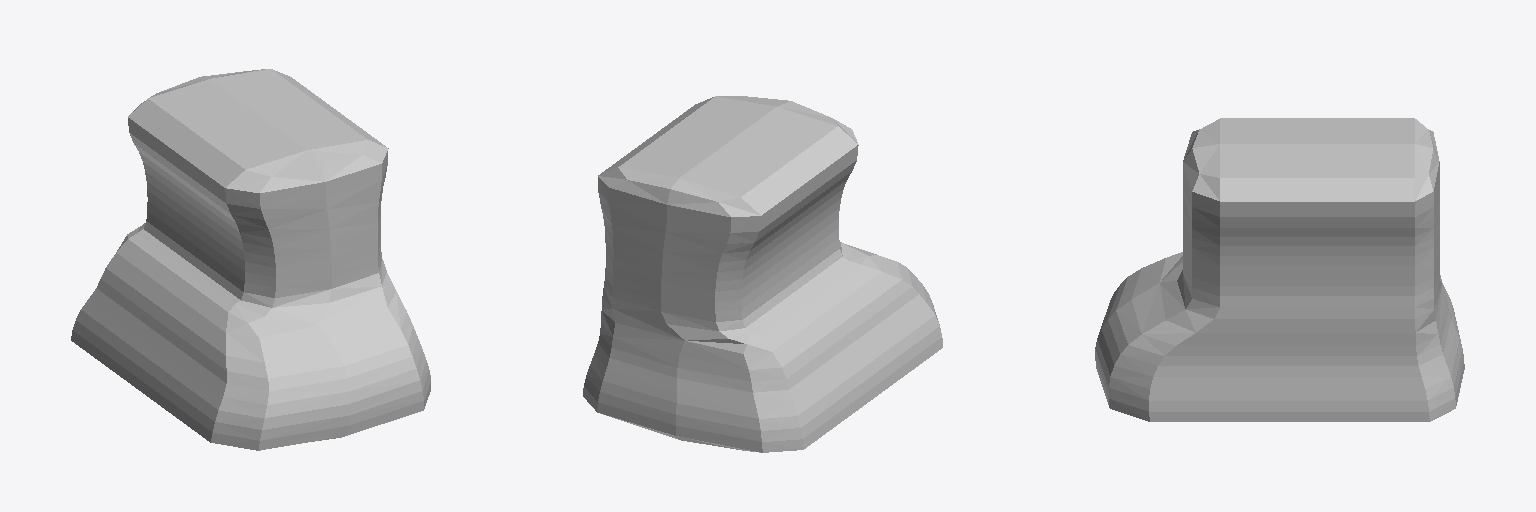
Rendered from R_leg.obj.
3 views of the same model, side by side, from view 1: azimuth 30°, elevation 25°; view 2: azimuth 150°, elevation 25°; view 3: azimuth 270°, elevation 25° (orthographic).
Parts seen in each view (by area): view 1: polySurface2 minion_all:Mesh; view 2: polySurface2 minion_all:Mesh; view 3: polySurface2 minion_all:Mesh.
Boxes of the visible parts, x1=… form: polySurface2 minion_all:Mesh: x1=71, y1=69, x2=430, y2=450; polySurface2 minion_all:Mesh: x1=583, y1=96, x2=942, y2=452; polySurface2 minion_all:Mesh: x1=1095, y1=118, x2=1464, y2=421.
Bounding box in the file's own units: 0.6478 × 0.6863 × 0.939.